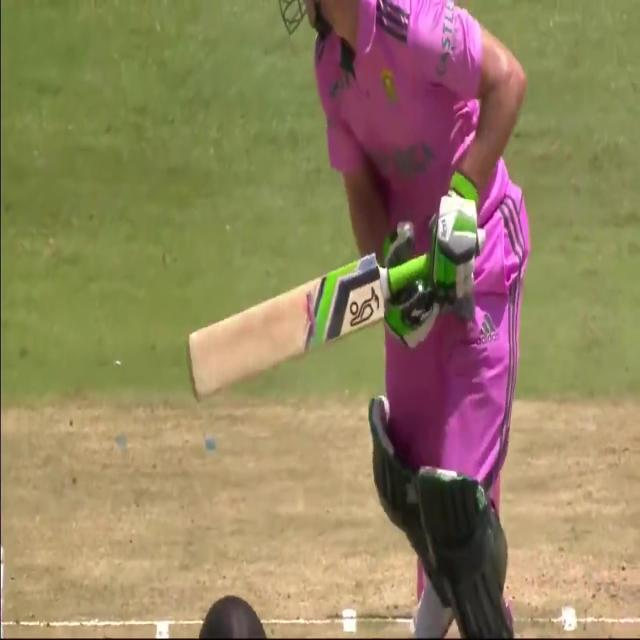Ball: (303, 2, 549, 640)
